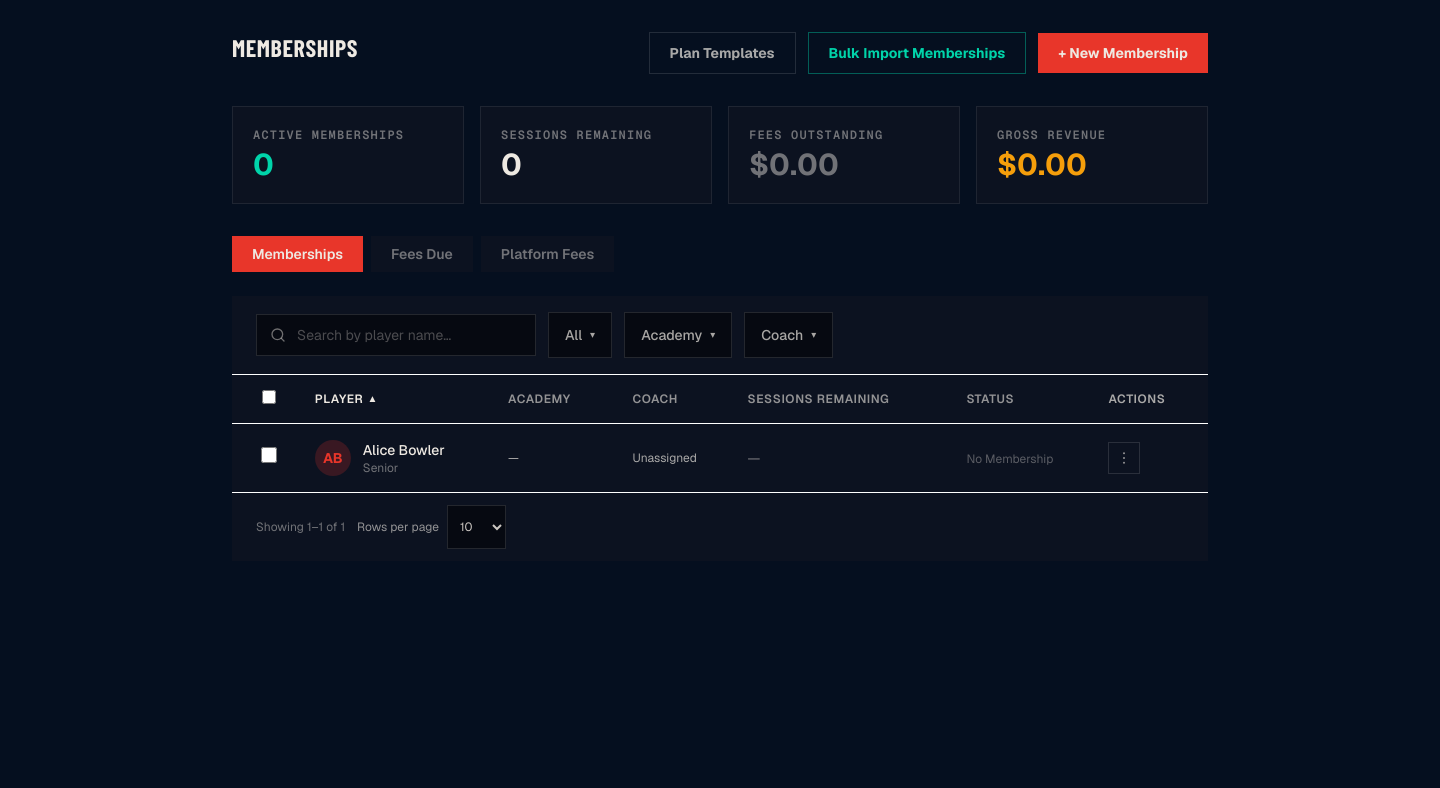
Test: SessionPacksClient › shows an empty state with a link to Attendance when the selected academy has no active squad training sessions
The width and height of the screenshot is (1440, 788).
Check: the text "Alice Bowler" is shown, box [363, 440, 445, 460]
Click the button "+ New Membership".
click(1123, 53)  # box [1038, 33, 1208, 73]
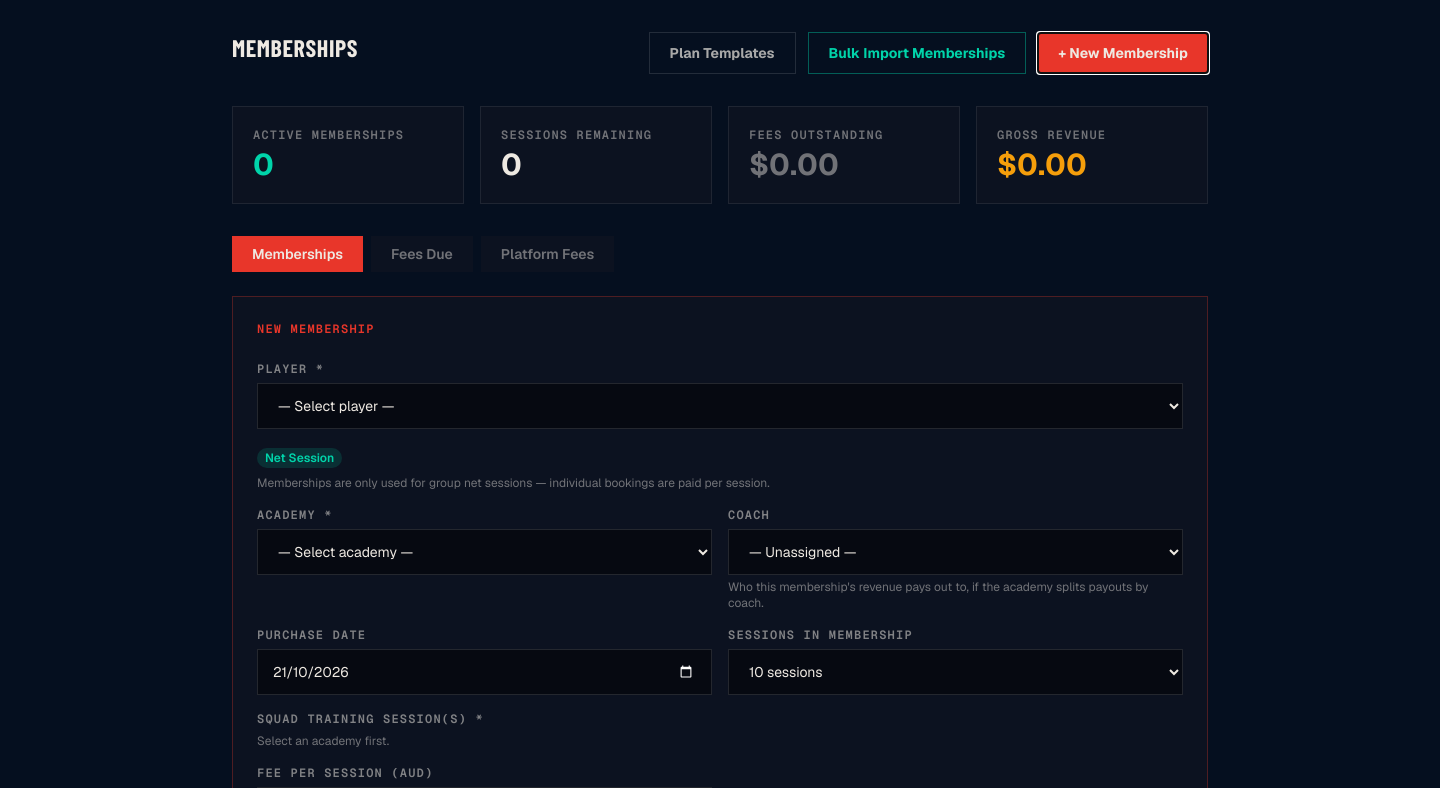
Select "Fast Bowlers Academy" in the dropdown below "Academy *" at (484, 552), box [257, 529, 712, 575]
(page scrolled)
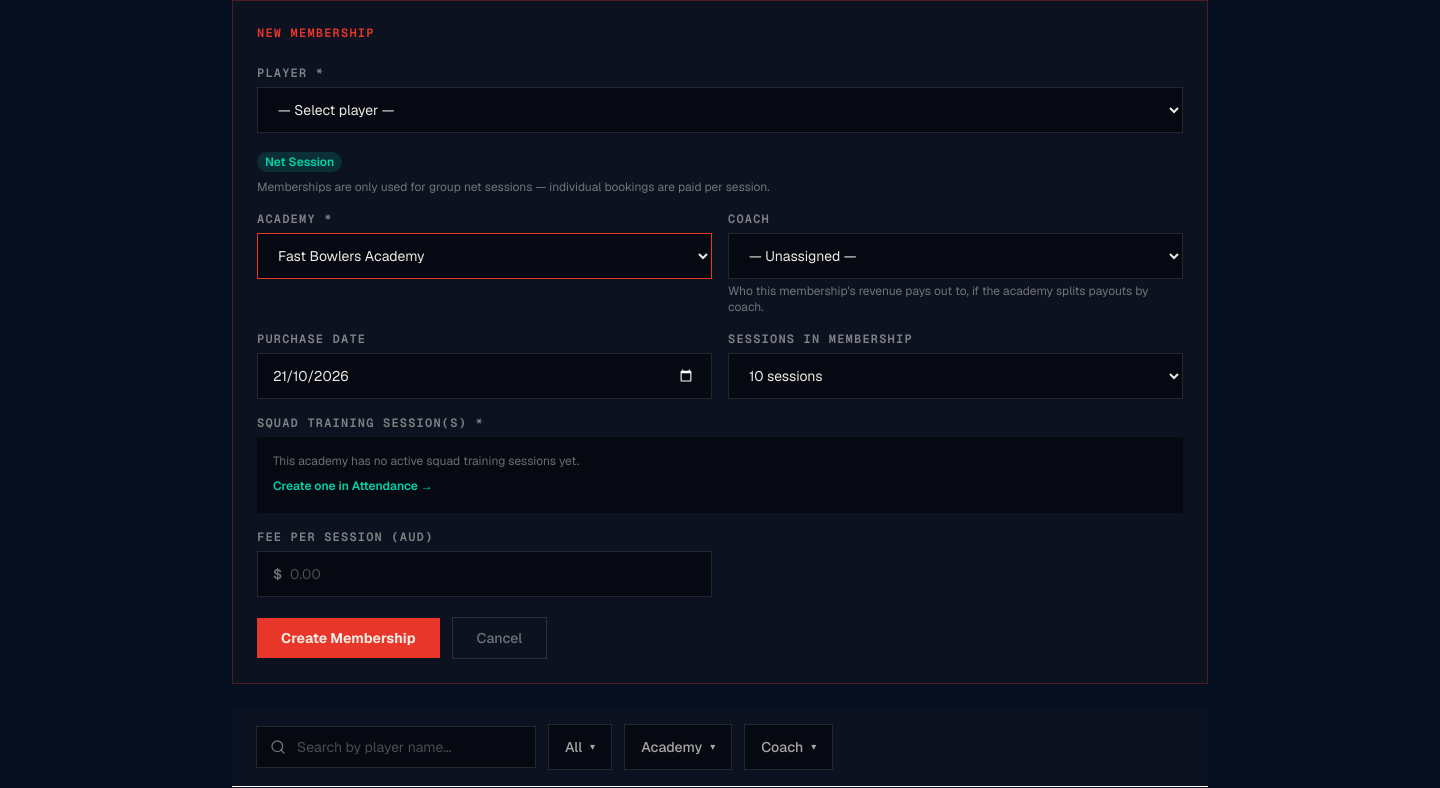
Check: the text "This academy has no active squad training sessions yet." is shown, box [273, 453, 579, 469]
